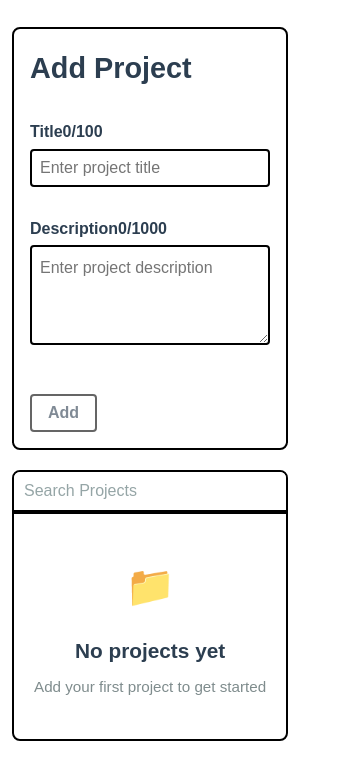
AddProjectForm user interactions › adds a project and it appears in the projects list
Type "My Test Project" into the field with placeholder "Enter project title" at point(150, 168), box [30,149,270,187]
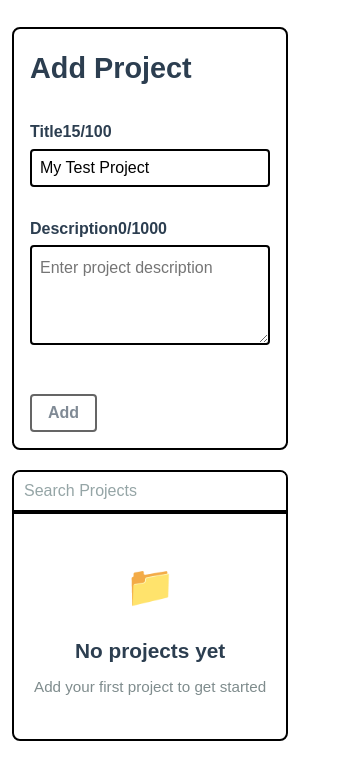
Type "Project description" into the text box with placeholder "Enter project description" at point(150, 295), box [30,245,270,345]
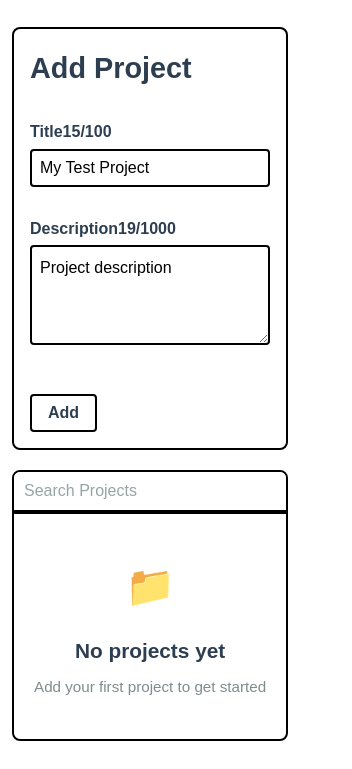
Click the button "Add" at point(64, 413), box [30,394,97,432]
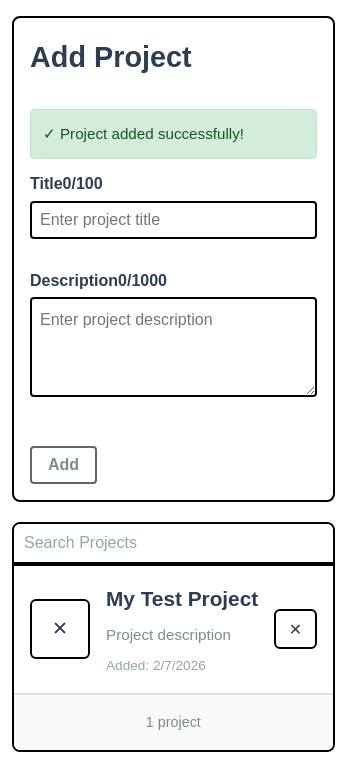
Expected: the heading "My Test Project" is shown, [106,582,258,615]
Expected: the text "Project description" is shown, [106,626,231,643]
